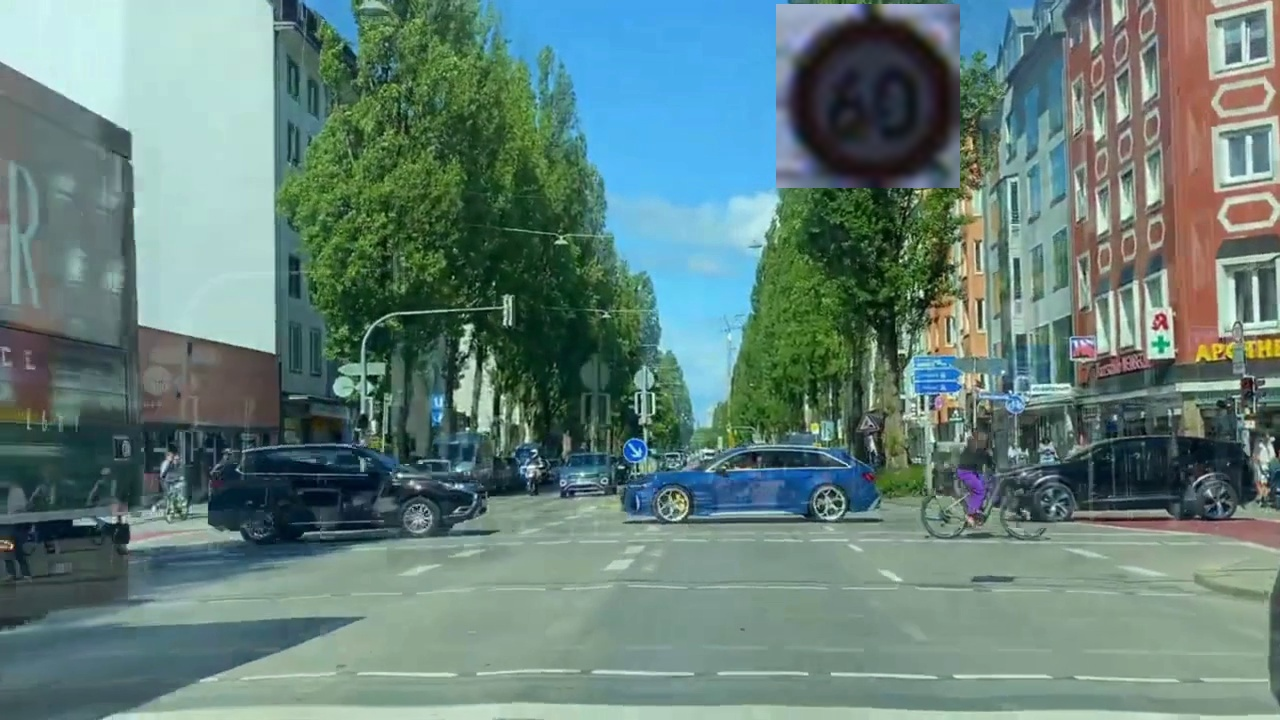Speed 60: (776, 4, 960, 188)
